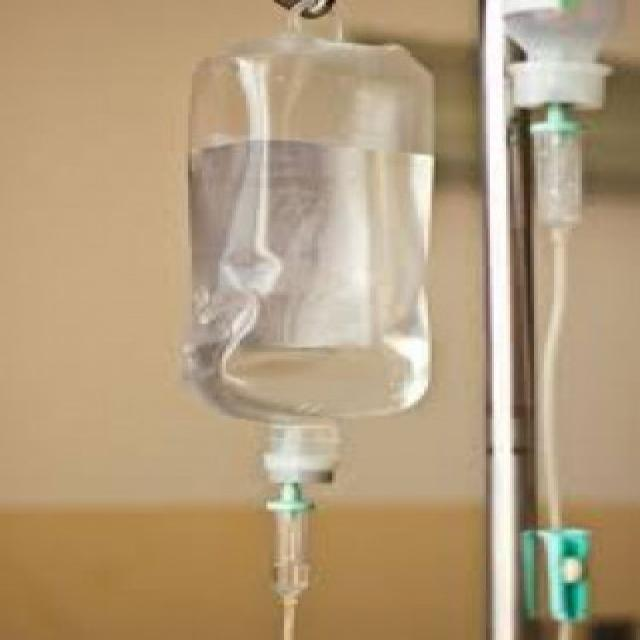B3: (176, 28, 442, 450)
